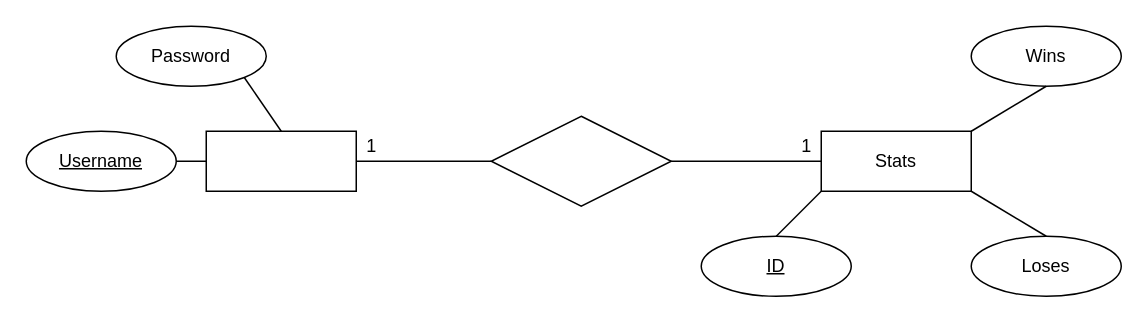
Some shapes in this 1148 by 323 pixel diagram are drawn without their labels. Each missing label, with the box of its shape:
has: (490, 115, 671, 206)
User: (205, 130, 356, 191)
